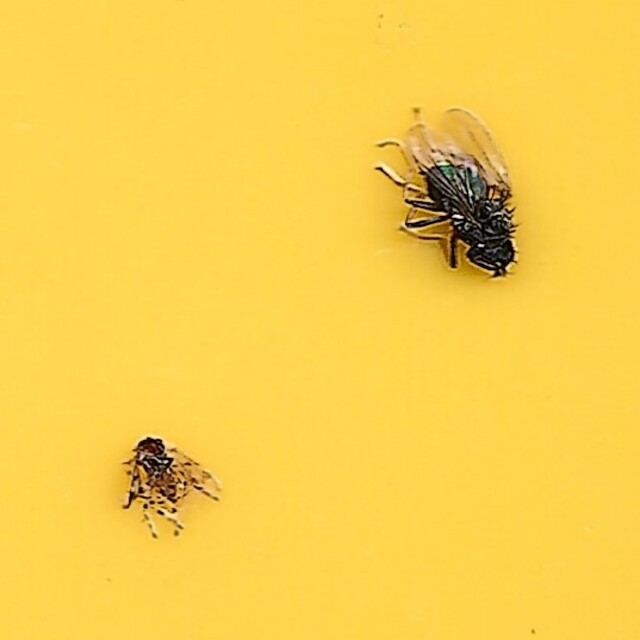Brachycera: (378, 105, 521, 282), (119, 437, 223, 535)
